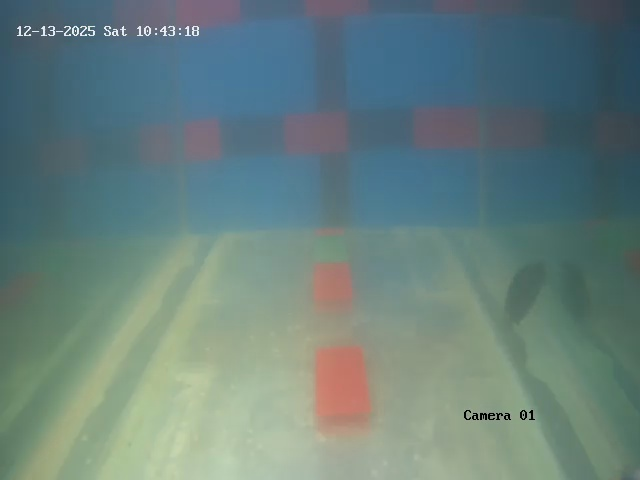fish: (503, 254, 548, 325)
